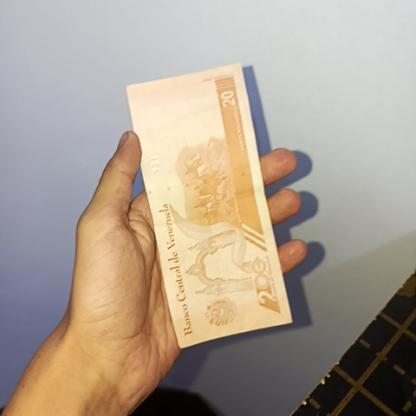twenty-back-vef: (126, 64, 294, 350)
